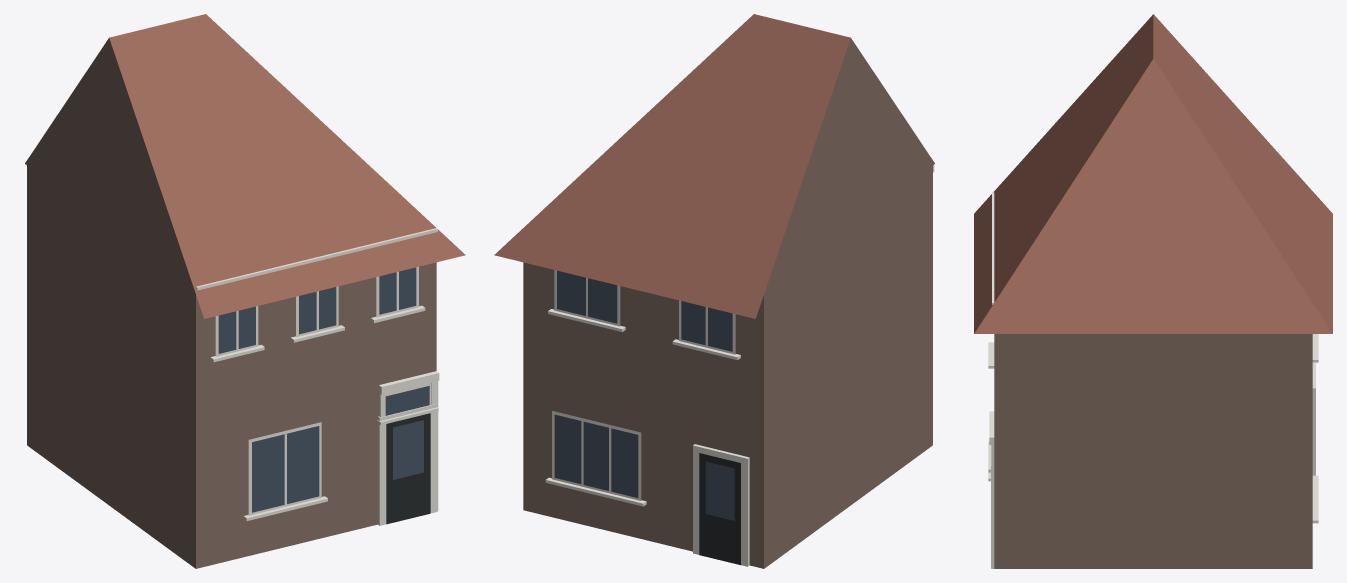
File: nn-row-small__small-grey__2__hip__long__solid__endR__mirror.glb
3 renders of one model, left to right at view 1: azimuth 30°, elevation 25°; view 2: azimuth 150°, elevation 25°; view 3: azimuth 270°, elevation 25°, orthographic. The views are drawn at different scales.
Parts seen in each view (by area): view 1: nn-row-small__small-grey__2__hip__long__solid__endR__mirror; view 2: nn-row-small__small-grey__2__hip__long__solid__endR__mirror; view 3: nn-row-small__small-grey__2__hip__long__solid__endR__mirror.
Boxes of the visible parts, left/top/right/bottom form: nn-row-small__small-grey__2__hip__long__solid__endR__mirror: left=25, top=14, right=465, bottom=568; nn-row-small__small-grey__2__hip__long__solid__endR__mirror: left=494, top=14, right=934, bottom=568; nn-row-small__small-grey__2__hip__long__solid__endR__mirror: left=974, top=14, right=1332, bottom=568.
Bounding box in the file's own units: 5.63 × 9.66 × 7.09.
